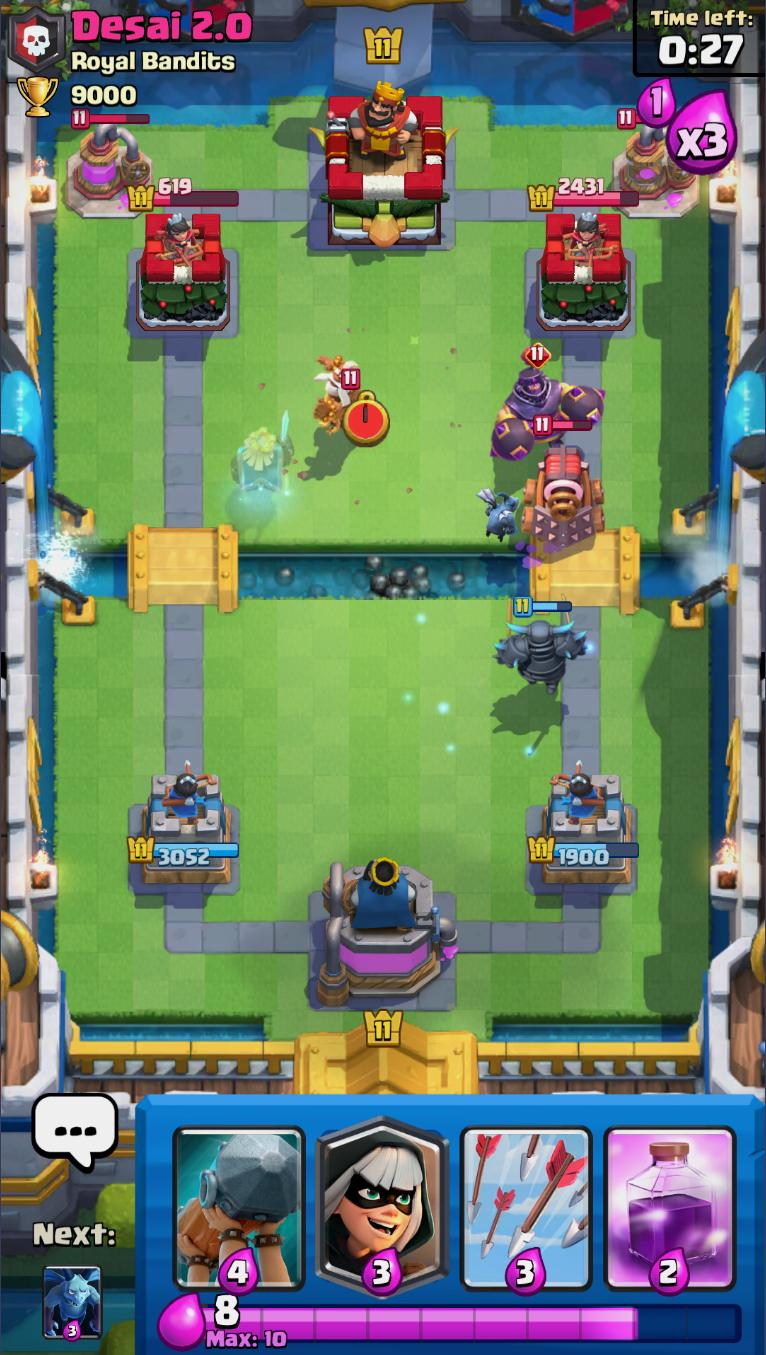ArrowDeck: (456, 1094, 598, 1295)
BanditDeck: (311, 1095, 455, 1296)
BattleRamDeck: (167, 1095, 310, 1296)
Elixir: (203, 1295, 744, 1350)
ElixirCollector: (63, 108, 156, 221), (612, 109, 702, 221)
EnemyTower: (533, 208, 631, 331), (133, 210, 229, 335)
EvoMegaKnight: (491, 341, 608, 462)
KingTower: (308, 82, 456, 248)
MinionsNext: (40, 1264, 105, 1344)
Monk: (310, 353, 363, 434)
MyKingTower: (319, 856, 458, 1009)
MyMinion: (477, 482, 524, 543)
MyPekka: (493, 592, 591, 695)
MyPrincessTower: (524, 771, 639, 887), (125, 769, 238, 887)
MyPrincessTowerHP: (125, 836, 238, 868), (525, 835, 637, 867)
MyRoyaleGhost: (228, 409, 296, 495)
PrincessTower: (546, 213, 603, 264), (144, 214, 200, 264)
RageDeck: (599, 1094, 744, 1296)
Sparky: (520, 416, 610, 550)
TowerPrincessHP: (126, 178, 239, 213), (526, 178, 639, 212)
